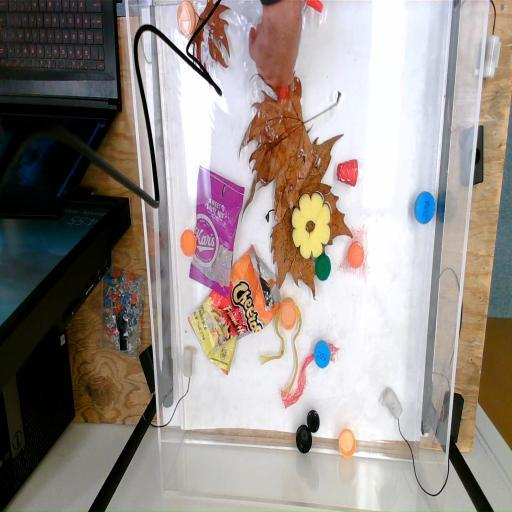Bottle Cap: (174, 0, 199, 40), (412, 192, 437, 226), (278, 299, 300, 334), (338, 428, 359, 460), (294, 424, 314, 456), (177, 228, 200, 254), (314, 340, 332, 371), (348, 240, 366, 270), (314, 254, 334, 280), (305, 408, 323, 432)
Cone Cap: (334, 156, 362, 190)
Leaf: (236, 67, 344, 202), (260, 183, 358, 293), (186, 0, 236, 75)
Netting: (280, 334, 344, 410), (337, 222, 376, 284)
Plastic Bag: (186, 244, 277, 376), (190, 158, 246, 300)
Plastic Strand: (260, 292, 302, 398)
Sponge: (289, 190, 332, 260)
